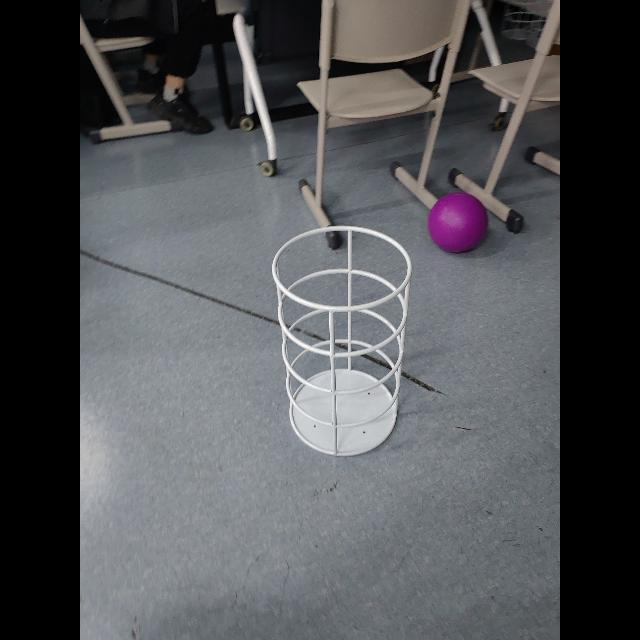S: (270, 223, 416, 461)
